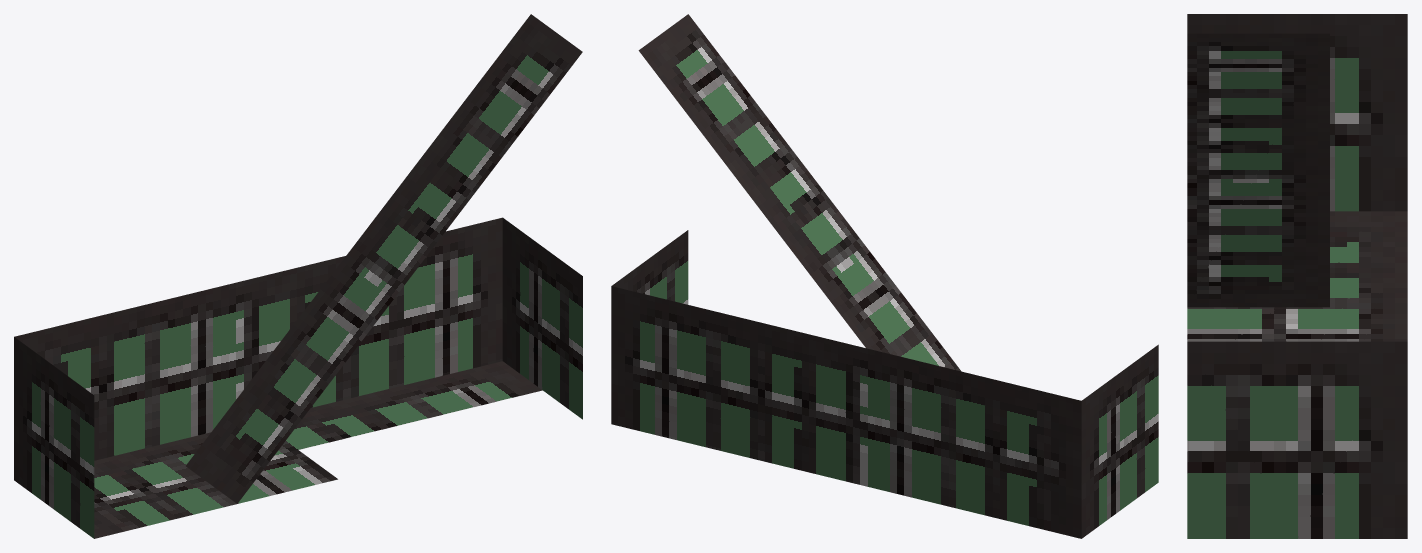
The model's file is balconyLadder_bottom.fbx.
3 renders of one model, left to right at view 1: azimuth 30°, elevation 25°; view 2: azimuth 150°, elevation 25°; view 3: azimuth 270°, elevation 25°, orthographic. The views are drawn at different scales.
Parts seen in each view (by area): view 1: balconyLadder_bottom; view 2: balconyLadder_bottom; view 3: balconyLadder_bottom.
Boxes of the visible parts, <box> form: balconyLadder_bottom: <box>14,14,582,538</box>; balconyLadder_bottom: <box>611,14,1158,538</box>; balconyLadder_bottom: <box>1187,14,1407,538</box>.
Size of the model in its own units: 10 by 7.19 by 2.84.
